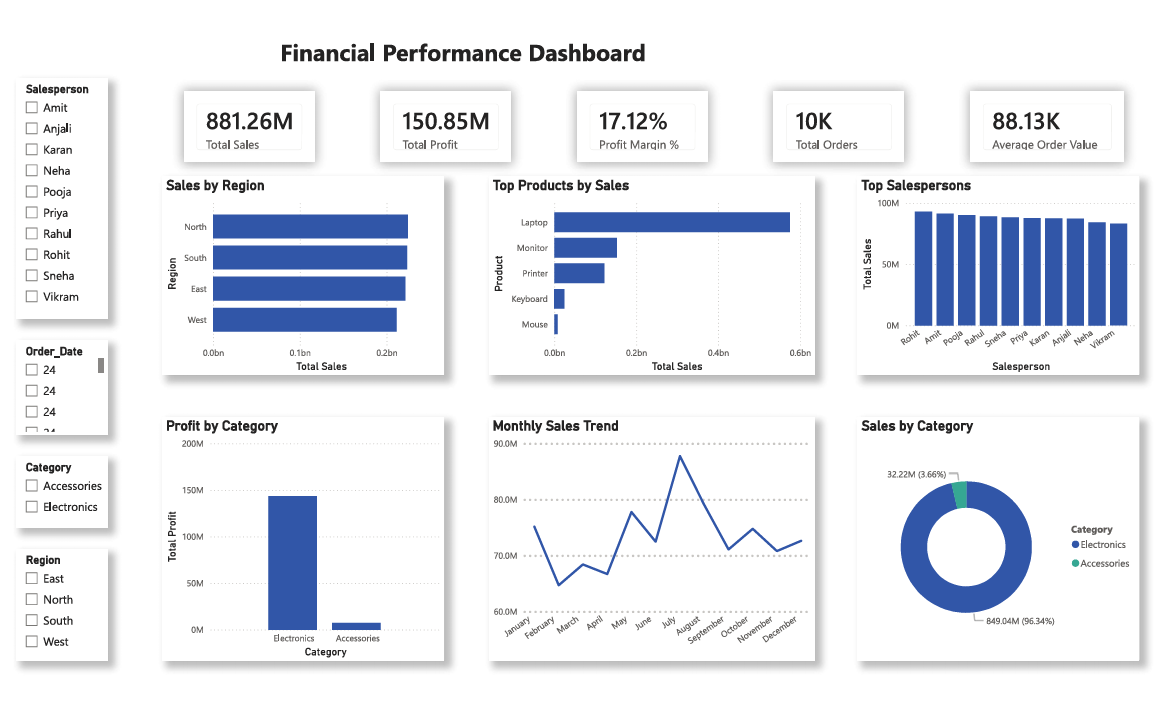

This screenshot's page, from the dashboard's own definition file:
{"tool":"powerbi","page":{"name":"Executive Dashboard","canvas":[1600,900],"ordinal":0},"visuals":[{"type":"textbox","box":[369.6,0,539.3,64.3],"z":0},{"type":"cardVisual","fields":{"Data":["financial_analytics.Total Sales"]},"box":[242,82,180,98],"z":1000},{"type":"cardVisual","fields":{"Data":["financial_analytics.Profit Margin %"]},"box":[786,82,180,98],"z":2000},{"type":"cardVisual","fields":{"Data":["financial_analytics.Average Order Value"]},"box":[1330,82,212,98],"z":3000},{"type":"cardVisual","fields":{"Data":["financial_analytics.Total Orders"]},"box":[1058,82,180,98],"z":4000},{"type":"cardVisual","fields":{"Data":["financial_analytics.Total Profit"]},"box":[514,82,180,98],"z":5000},{"type":"lineChart","title":"Monthly Sales Trend","fields":{"Y":["financial_analytics.Total Sales"],"Category":["financial_analytics.Order_Date.Variation.Date Hierarchy.Month"]},"box":[664,532,450,336],"z":6000},{"type":"clusteredBarChart","title":"Sales by Region","fields":{"Category":["financial_analytics.Region"],"Y":["financial_analytics.Total Sales"]},"box":[212,200,390,274],"z":7000},{"type":"donutChart","title":"Sales by Category","fields":{"Category":["financial_analytics.Category"],"Y":["financial_analytics.Total Sales"]},"box":[1174,532,390,336],"z":8000},{"type":"clusteredBarChart","title":"Top Products by Sales","fields":{"Category":["financial_analytics.Product"],"Y":["financial_analytics.Total Sales"]},"box":[664,200,450,274],"z":9000},{"type":"clusteredColumnChart","title":"Top Salespersons","fields":{"Category":["financial_analytics.Salesperson"],"Y":["financial_analytics.Total Sales"]},"box":[1174,200,390,274],"z":10000},{"type":"slicer","fields":{"Values":["financial_analytics.Region"]},"box":[10,714,126,154],"z":11000},{"type":"slicer","fields":{"Values":["financial_analytics.Category"]},"box":[10,586,126,98],"z":12000},{"type":"slicer","fields":{"Values":["financial_analytics.Salesperson"]},"box":[10,64,126,332],"z":13000},{"type":"slicer","fields":{"Values":["financial_analytics.Order_Date.Variation.Date Hierarchy.Year"]},"box":[10,426,126,130],"z":14000},{"type":"clusteredColumnChart","title":"Profit by Category","fields":{"Category":["financial_analytics.Category"],"Y":["financial_analytics.Total Profit"]},"box":[212,532,390,336],"z":15000}]}

Visuals, with their boxes on the page's 1600x900 design canvas (x1, y1, x2, y2). These are canvas units, not pixel positions in the 1168x708 screenshot, which may show the page scaled, cropped or inside an application window:
textbox: [370,0,909,64]
cardVisual - financial_analytics.Total Sales: [242,82,422,180]
cardVisual - financial_analytics.Profit Margin %: [786,82,966,180]
cardVisual - financial_analytics.Average Order Value: [1330,82,1542,180]
cardVisual - financial_analytics.Total Orders: [1058,82,1238,180]
cardVisual - financial_analytics.Total Profit: [514,82,694,180]
"Monthly Sales Trend" lineChart: [664,532,1114,868]
"Sales by Region" clusteredBarChart: [212,200,602,474]
"Sales by Category" donutChart: [1174,532,1564,868]
"Top Products by Sales" clusteredBarChart: [664,200,1114,474]
"Top Salespersons" clusteredColumnChart: [1174,200,1564,474]
slicer - financial_analytics.Region: [10,714,136,868]
slicer - financial_analytics.Category: [10,586,136,684]
slicer - financial_analytics.Salesperson: [10,64,136,396]
slicer - financial_analytics.Order_Date.Variation.Date Hierarchy.Year: [10,426,136,556]
"Profit by Category" clusteredColumnChart: [212,532,602,868]
